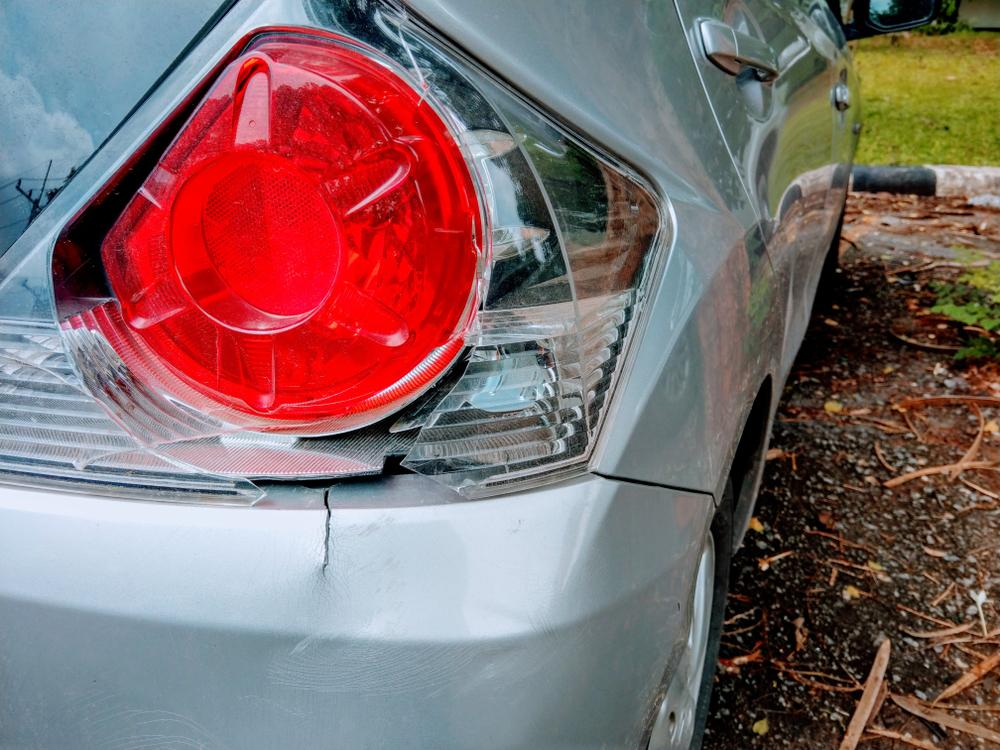crack: (320, 481, 334, 580)
lamp broken: (0, 1, 665, 505)
